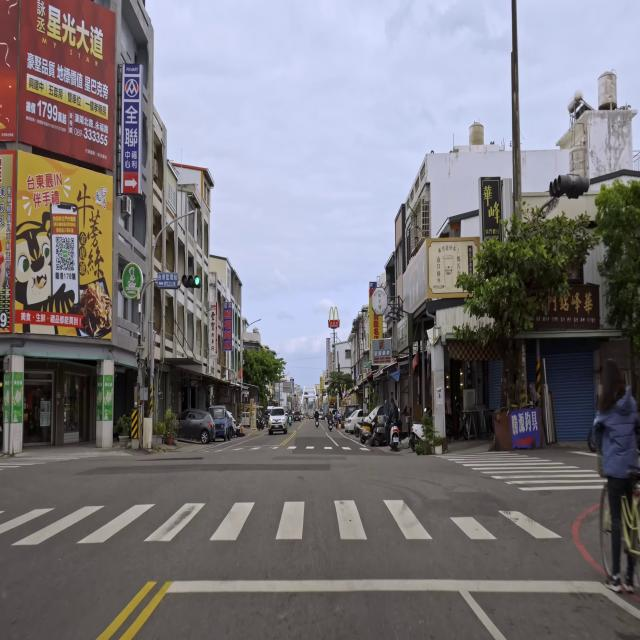green light: (181, 274, 202, 289)
